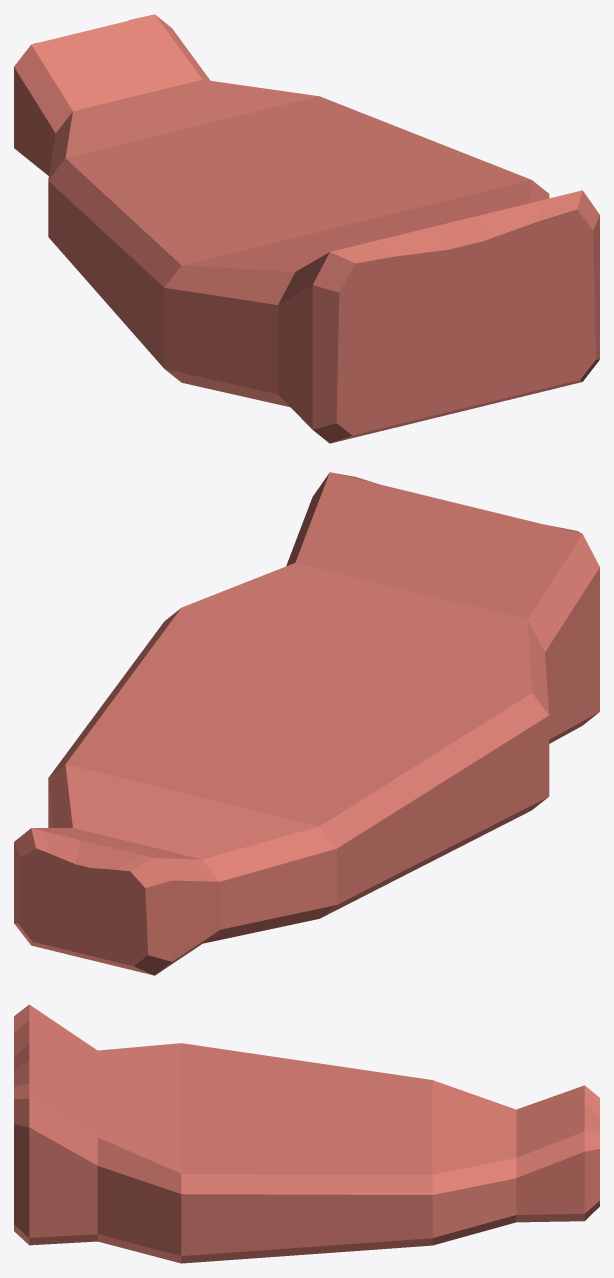
File: calder_light_a.glb
3 renders of one model, top to bottom at view 1: azimuth 30°, elevation 25°; view 2: azimuth 150°, elevation 25°; view 3: azimuth 270°, elevation 25°, orthographic. The views are drawn at different scales.
Parts seen in each view (by area): view 1: calder_light_a; view 2: calder_light_a; view 3: calder_light_a.
Part boxes in pixels (<box>): calder_light_a: <box>14,14,599,443</box>; calder_light_a: <box>14,472,599,975</box>; calder_light_a: <box>14,1004,599,1263</box>.
Bounding box in the file's own units: 2.9 × 1.38 × 5.
